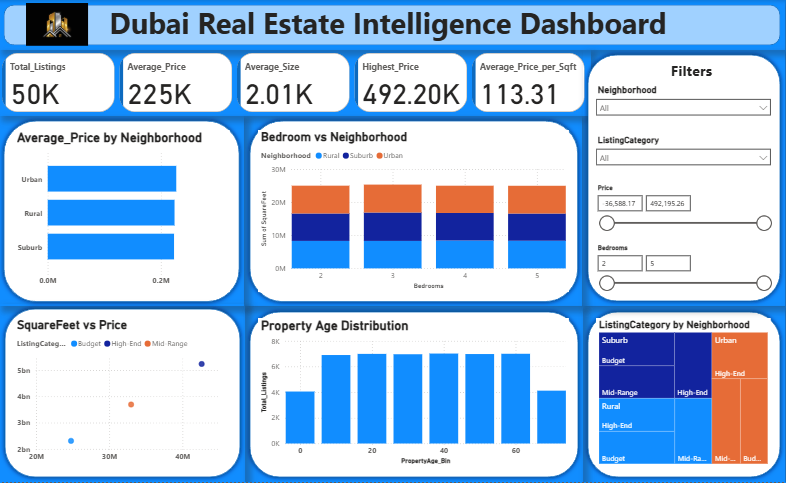

What the dashboard file says about the page in this screenshot:
{"tool":"powerbi","page":{"name":"Page 1","canvas":[1320,800],"ordinal":0},"visuals":[{"type":"shape","box":[10,0,1304.6,83],"z":0},{"type":"textbox","box":[10,0,1291.3,83],"z":1000},{"type":"image","box":[50,0,113.9,81.1],"z":2000},{"type":"cardVisual","fields":{"Data":["housing_price_dataset.Total_Listings","housing_price_dataset.Average_Price","housing_price_dataset.Average_Size","housing_price_dataset.Highest_Price","housing_price_dataset.Average_Price_per_Sqft"]},"box":[10.4,82.8,981.6,108.7],"z":3000},{"type":"shape","box":[10.7,191.9,406.8,316.3],"z":4000},{"type":"clusteredBarChart","fields":{"Y":["housing_price_dataset.Average_Price"],"Category":["housing_price_dataset.Neighborhood"]},"box":[35.3,214.9,357.7,268.7],"z":5000},{"type":"shape","box":[417.6,191.9,560.4,316.3],"z":6000},{"type":"columnChart","title":"Bedroom vs Neighborhood","fields":{"Y":["Sum(housing_price_dataset.SquareFeet)"],"Category":["housing_price_dataset.Bedrooms"],"Series":["housing_price_dataset.Neighborhood"]},"box":[440.6,214.9,515.9,268.7],"z":7000},{"type":"shape","box":[11.6,504.6,406.6,295.4],"z":8000},{"type":"scatterChart","title":"SquareFeet vs Price","fields":{"X":["Sum(housing_price_dataset.SquareFeet)"],"Y":["Sum(housing_price_dataset.Price)"],"Series":["housing_price_dataset.ListingCategory"]},"box":[34.9,527.8,358.5,247.3],"z":9000},{"type":"shape","box":[418.3,509.5,561,290.5],"z":10000},{"type":"clusteredColumnChart","title":"Property Age Distribution","fields":{"Y":["housing_price_dataset.Total_Listings"],"Category":["housing_price_dataset.PropertyAge_Bin"]},"box":[439.8,527.8,516.2,247.3],"z":11000},{"type":"shape","box":[979.3,509.5,335.3,290.5],"z":12000},{"type":"treemap","title":"ListingCategory by Neighborhood","fields":{"Values":["housing_price_dataset.Total_Listings"],"Group":["housing_price_dataset.Neighborhood"],"Details":["housing_price_dataset.ListingCategory"]},"box":[1000.8,527.8,290.5,247.3],"z":13000},{"type":"shape","box":[979.3,83,335.3,424.9],"z":14000},{"type":"slicer","fields":{"Values":["housing_price_dataset.Bedrooms"]},"box":[990.9,400,310.4,122.8],"z":15000},{"type":"slicer","fields":{"Values":["housing_price_dataset.Neighborhood"]},"box":[990.9,134.4,310.4,81.3],"z":16000},{"type":"slicer","fields":{"Values":["housing_price_dataset.ListingCategory"]},"box":[990.9,219.1,310.4,81.3],"z":17000},{"type":"slicer","fields":{"Values":["housing_price_dataset.Price"]},"box":[990.9,300.4,310.4,99.6],"z":18000},{"type":"textbox","box":[1032.4,94.6,253.9,43.2],"z":19000}]}

Visuals, with their boxes in screenshot pixels (x1, y1, x2, y2), scaled from the page's 1320x800 canvas onto the 786x483 screenshot:
shape: 6,0,783,50
textbox: 6,0,775,50
image: 30,0,98,49
cardVisual - housing_price_dataset.Total_Listings x housing_price_dataset.Average_Price: 6,50,591,116
shape: 6,116,249,307
clusteredBarChart - housing_price_dataset.Average_Price x housing_price_dataset.Neighborhood: 21,130,234,292
shape: 249,116,582,307
"Bedroom vs Neighborhood" columnChart: 262,130,570,292
shape: 7,305,249,482
"SquareFeet vs Price" scatterChart: 21,319,234,468
shape: 249,308,583,482
"Property Age Distribution" clusteredColumnChart: 262,319,569,468
shape: 583,308,783,482
"ListingCategory by Neighborhood" treemap: 596,319,769,468
shape: 583,50,783,307
slicer - housing_price_dataset.Bedrooms: 590,242,775,316
slicer - housing_price_dataset.Neighborhood: 590,81,775,130
slicer - housing_price_dataset.ListingCategory: 590,132,775,181
slicer - housing_price_dataset.Price: 590,181,775,242
textbox: 615,57,766,83
